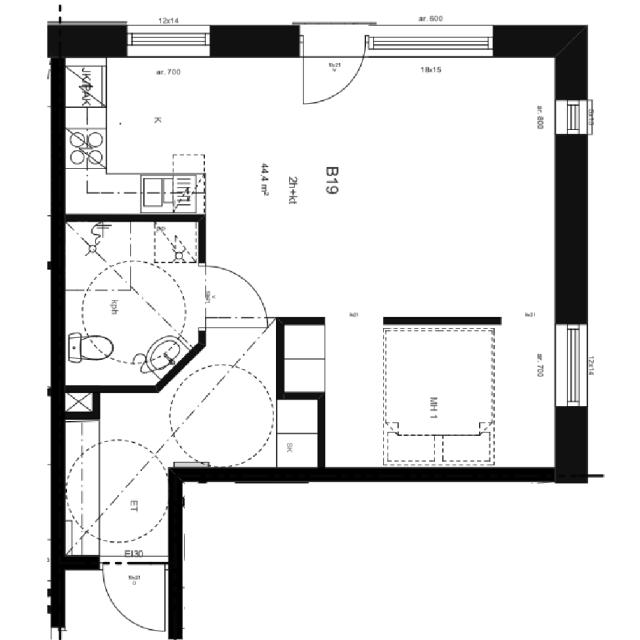door: (202, 260, 259, 303), (130, 504, 167, 541)
window: (552, 321, 590, 411), (124, 26, 211, 51), (552, 96, 593, 140), (45, 624, 68, 640)
zone: (382, 328, 493, 449)
